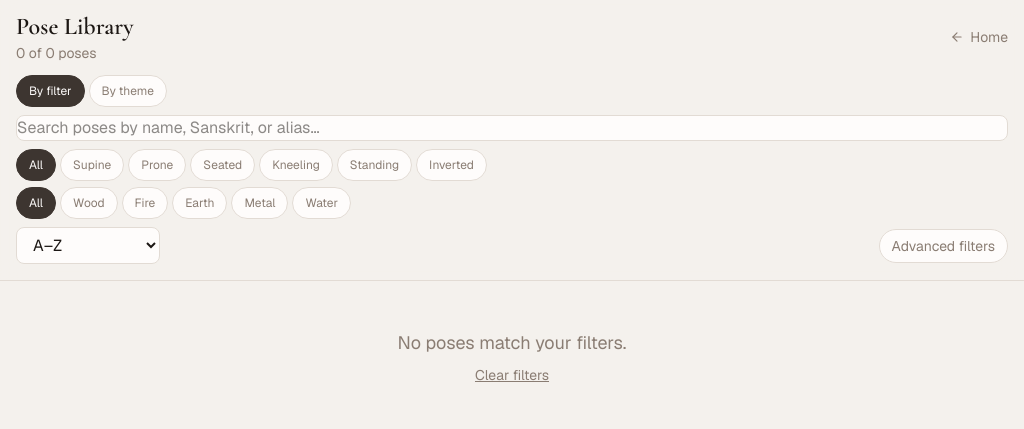
Test: clear-all reachability (FR-025) › is available with the advanced panel collapsed whenever a filter is active
Type "a" into the search field with test id "poses-search-input" at (512,128), box [16,115,1008,141]
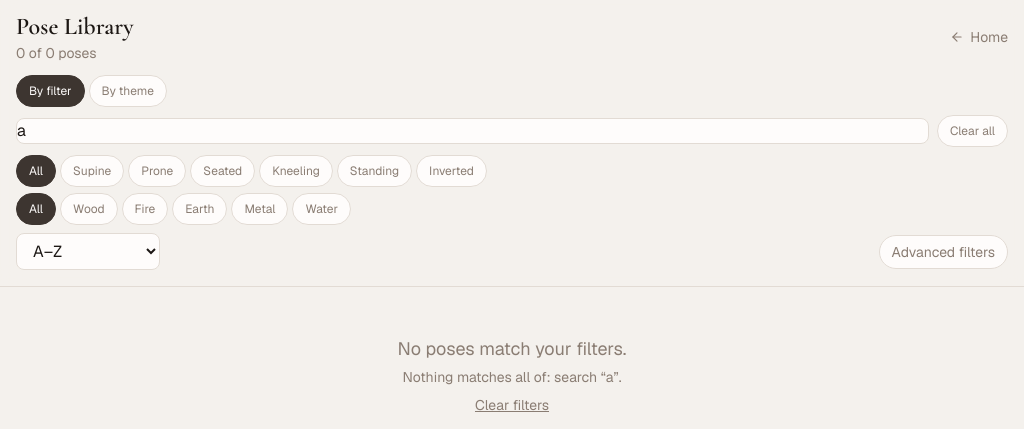
Expected: the button with test id "poses-clear-all-filters" is shown, [937,115,1008,147]
